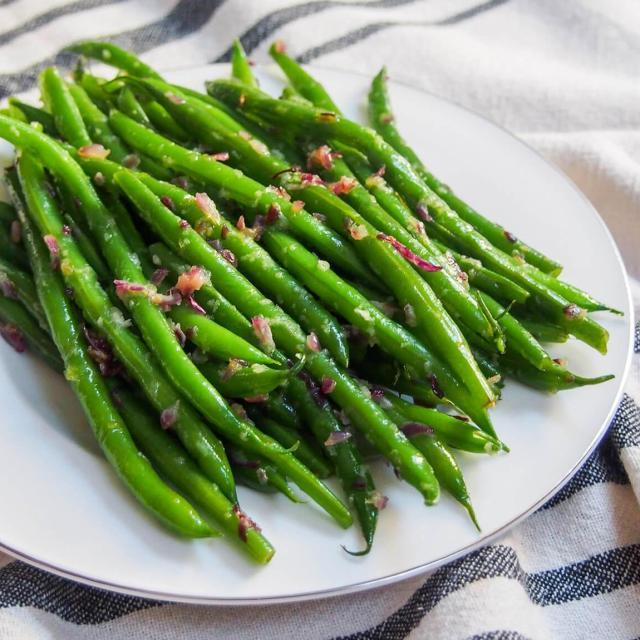Beans: (0, 22, 639, 567)
